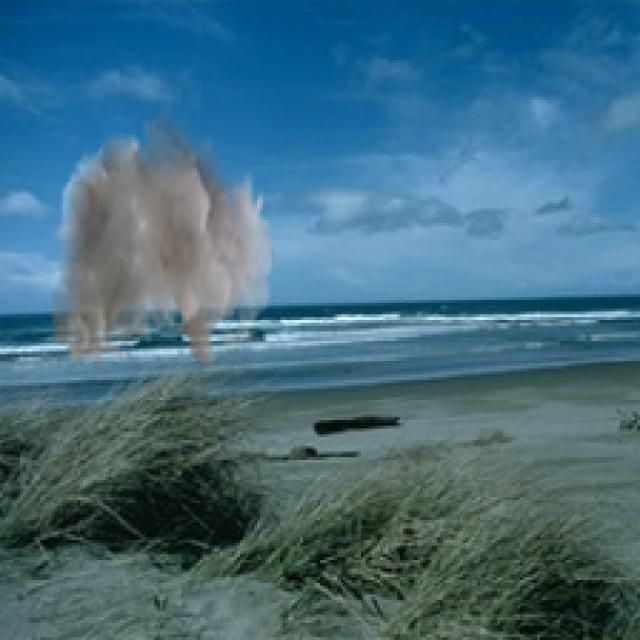Smoke: (48, 100, 274, 374)
